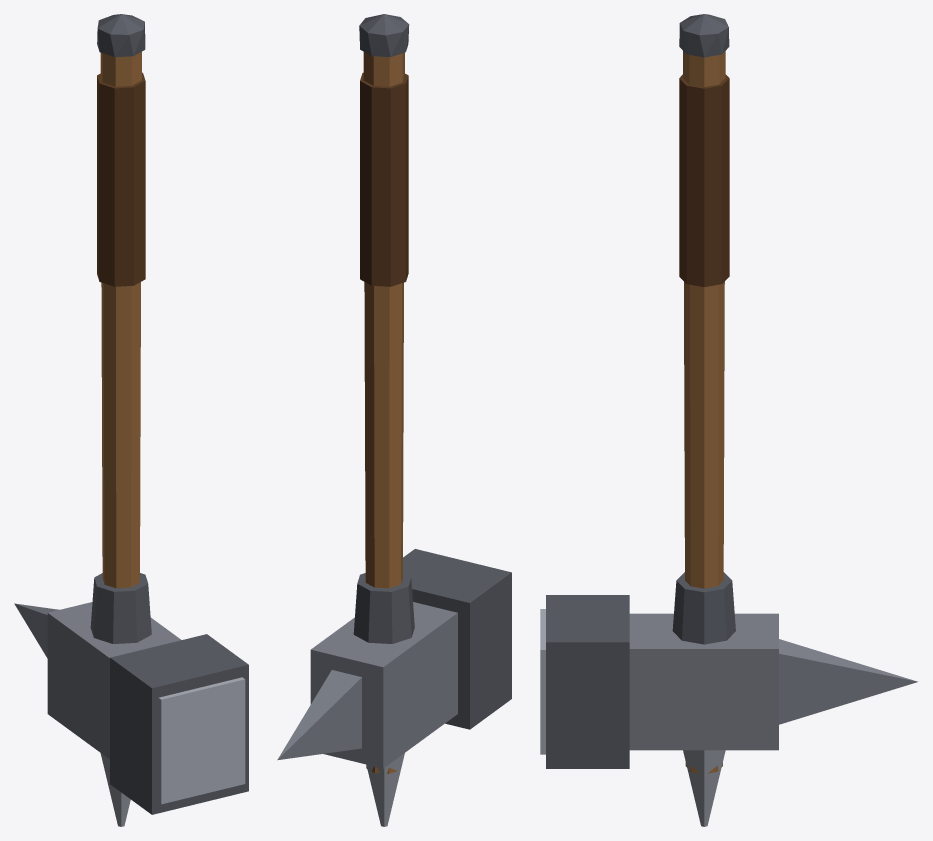
Rendered from held_iron_warhammer.glb.
3 views of the same model, side by side, from view 1: azimuth 30°, elevation 25°; view 2: azimuth 150°, elevation 25°; view 3: azimuth 270°, elevation 25° (orthographic).
Parts seen in each view (by area): view 1: held_iron_warhammer; view 2: held_iron_warhammer; view 3: held_iron_warhammer.
Part boxes in pixels (bbox=[...]): held_iron_warhammer: bbox=[14, 14, 248, 826]; held_iron_warhammer: bbox=[277, 14, 511, 826]; held_iron_warhammer: bbox=[540, 14, 917, 826].
Size of the model in its own units: 0.12 by 0.961 by 0.406.
